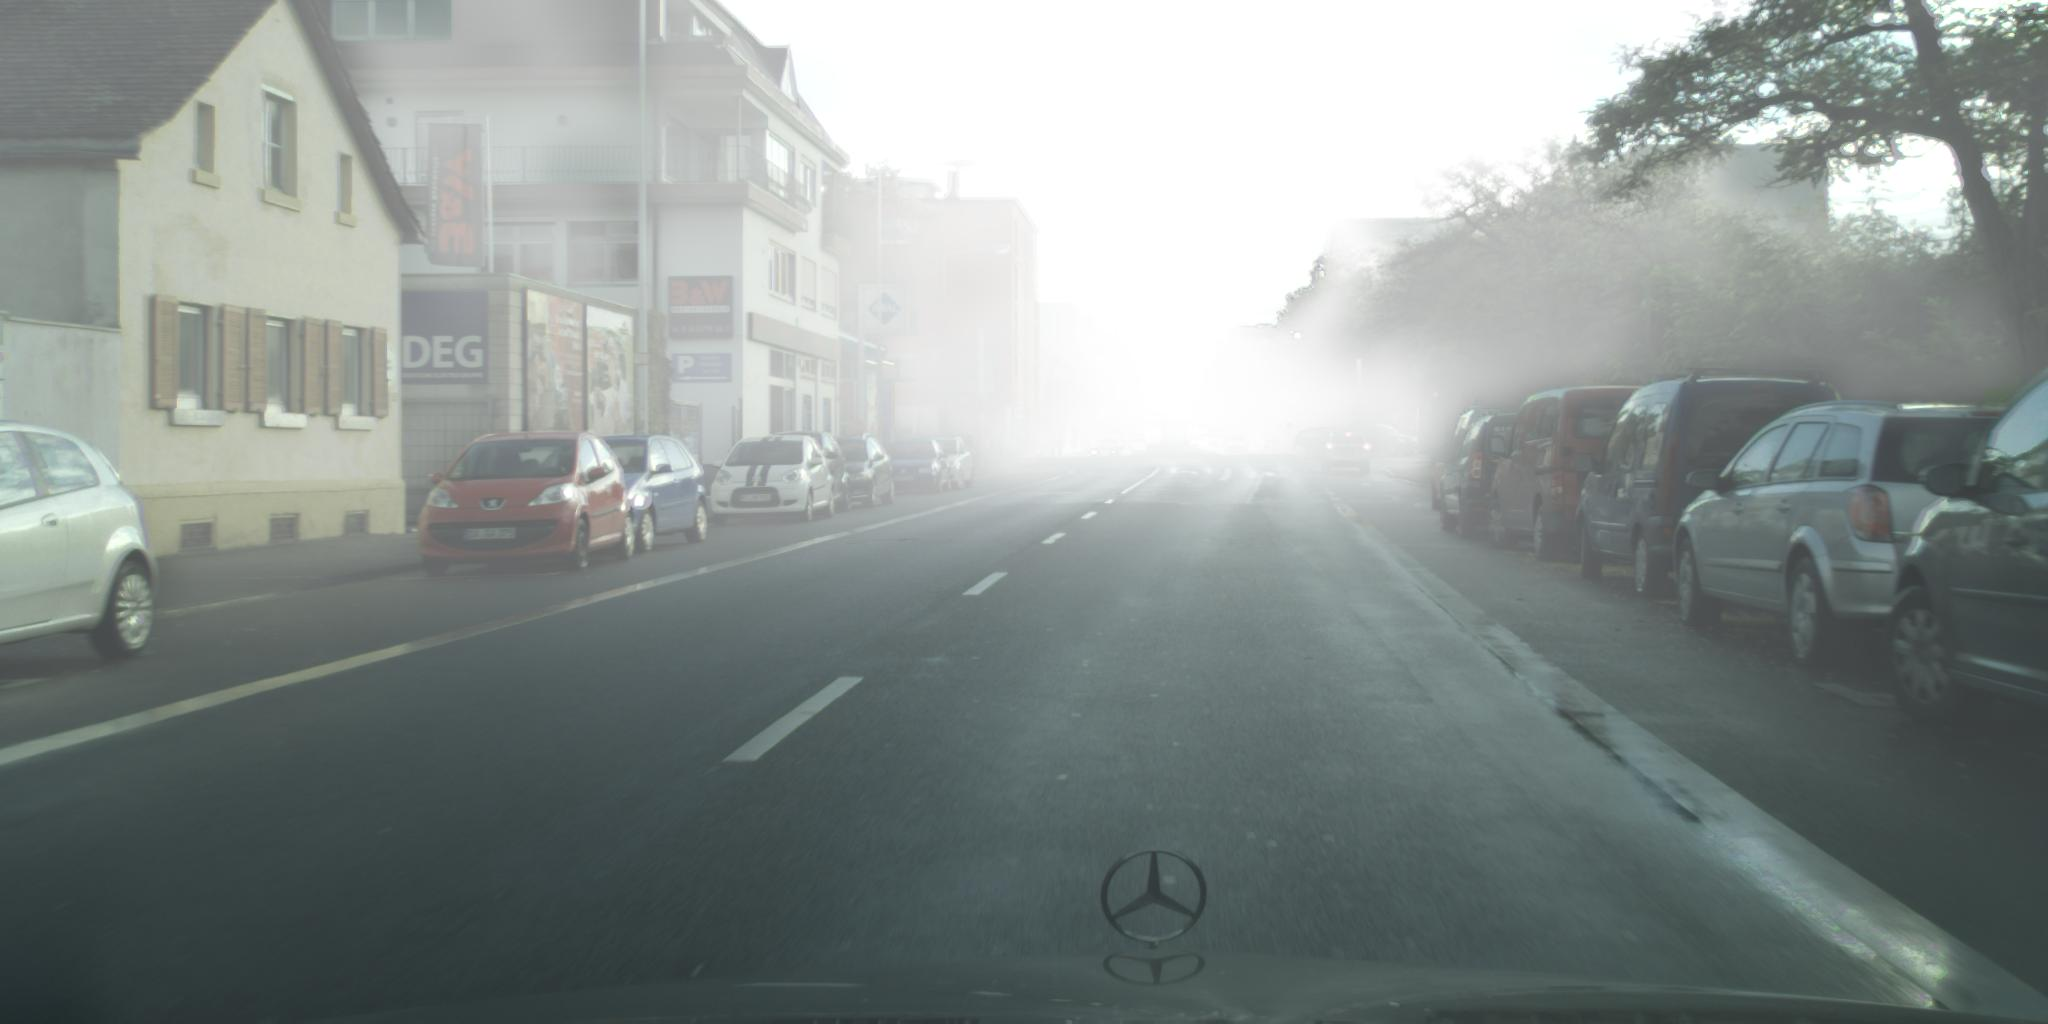car: (1673, 400, 2017, 670), (1573, 366, 1843, 600), (1880, 371, 2048, 720), (1, 421, 159, 662), (418, 430, 637, 579), (1482, 387, 1650, 562), (590, 436, 711, 552), (711, 438, 839, 526), (1437, 411, 1526, 538), (1432, 405, 1536, 511), (767, 431, 854, 515), (825, 435, 899, 508), (882, 440, 953, 492), (916, 438, 974, 488), (1343, 424, 1418, 457), (1320, 431, 1370, 474), (1293, 428, 1344, 458), (1089, 439, 1121, 457), (1122, 435, 1149, 452), (1225, 438, 1249, 455), (1189, 426, 1207, 447), (1139, 421, 1159, 438), (1206, 438, 1226, 452), (1264, 441, 1287, 455), (1219, 438, 1236, 455), (1241, 439, 1259, 453), (1199, 435, 1215, 451), (1138, 428, 1151, 444), (1187, 424, 1194, 438)
truck: (1091, 414, 1134, 455), (1219, 418, 1246, 445)
